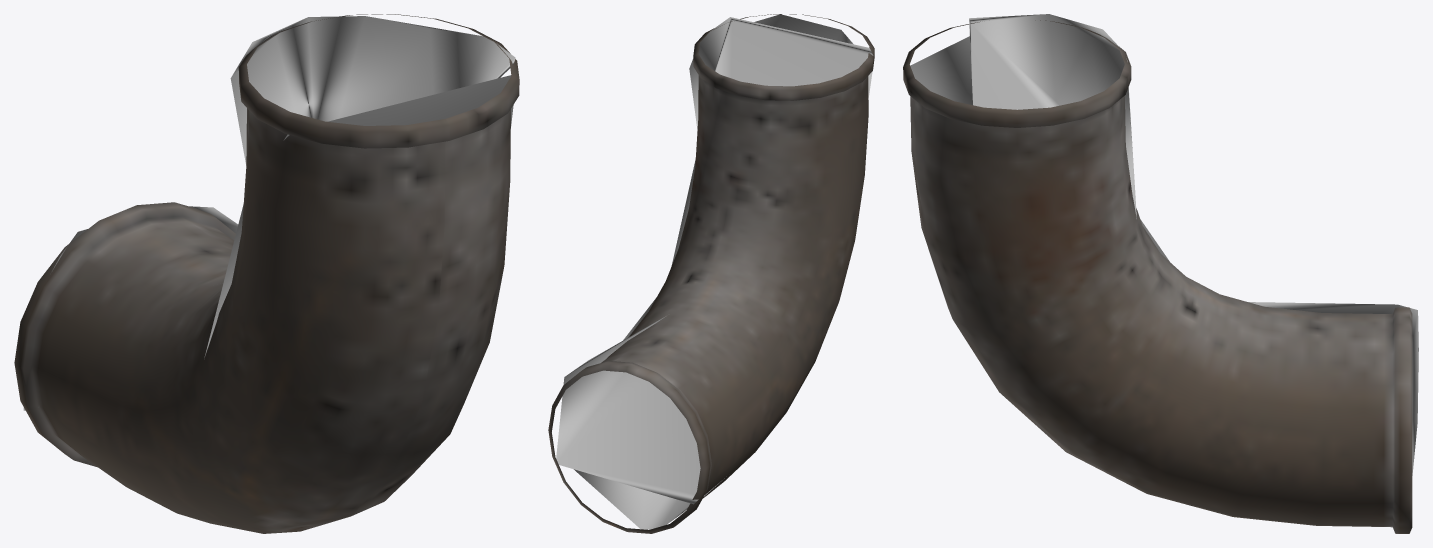
The model's file is SM_Pipesml_Curve.gltf.
3 renders of one model, left to right at view 1: azimuth 30°, elevation 25°; view 2: azimuth 150°, elevation 25°; view 3: azimuth 270°, elevation 25°, orthographic. The views are drawn at different scales.
Visible parts, largest first — view 1: SM_Pipesml_Curve_LOD0, SM_Pipesml_Curve_ConvexHulls; view 2: SM_Pipesml_Curve_LOD0, SM_Pipesml_Curve_ConvexHulls; view 3: SM_Pipesml_Curve_LOD0, SM_Pipesml_Curve_ConvexHulls.
Part boxes in pixels (x1=…): SM_Pipesml_Curve_LOD0: x1=14, y1=14, x2=519, y2=533; SM_Pipesml_Curve_ConvexHulls: x1=23, y1=16, x2=515, y2=410; SM_Pipesml_Curve_LOD0: x1=548, y1=14, x2=874, y2=533; SM_Pipesml_Curve_ConvexHulls: x1=556, y1=14, x2=873, y2=529; SM_Pipesml_Curve_LOD0: x1=903, y1=20, x2=1412, y2=533; SM_Pipesml_Curve_ConvexHulls: x1=910, y1=14, x2=1418, y2=475.
Size of what is drawn, in the model's own units: 0.0365 by 0.082 by 0.0824.
